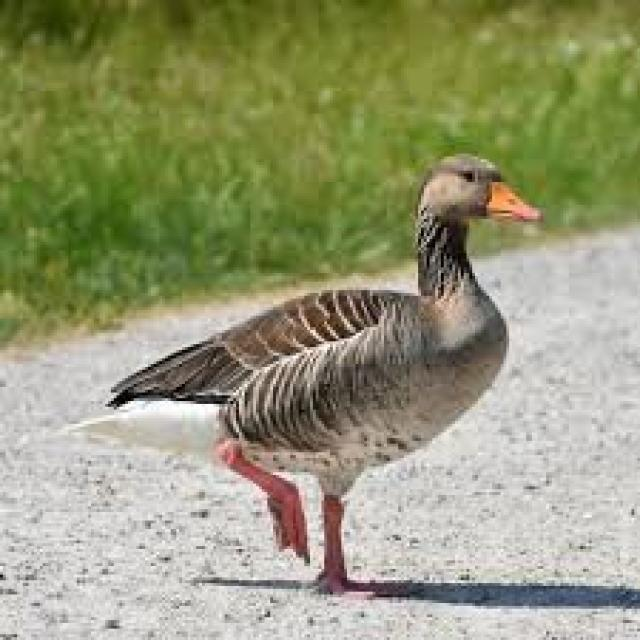Goose: (107, 145, 545, 578)
